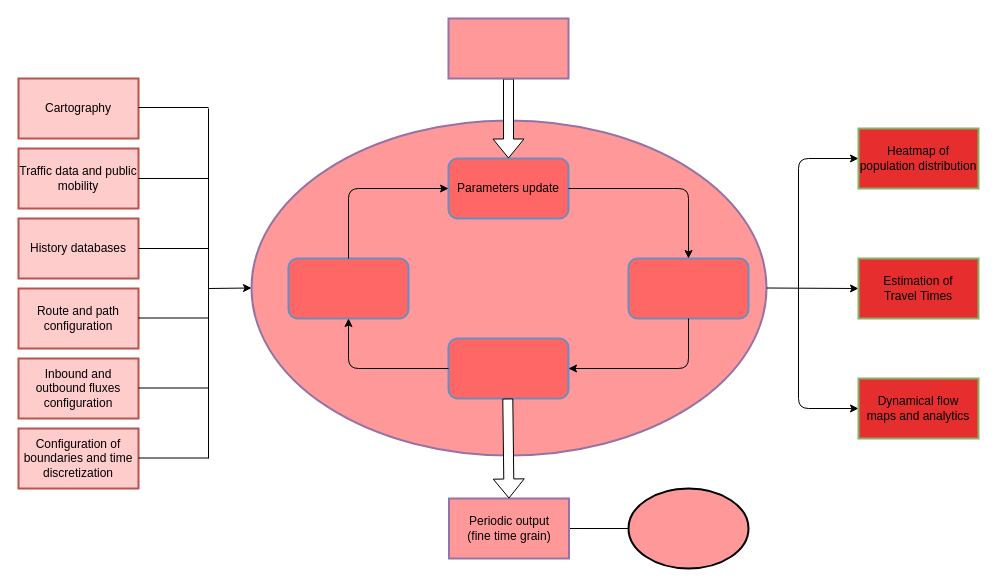
The diagram is 996 pixels wide and 586 high, and some of its shapes have lost their labels. The box of each missing label's shape, as (x1, y1, x2, y2) in pixels:
Collection of intermediate output: (447, 337, 569, 399)
Comparison and parametric tuning with real time data: (627, 487, 749, 569)
Data from distributed sensors: (447, 17, 569, 79)
Network time evolution: (627, 257, 749, 319)
Population time evolution: (287, 257, 409, 319)
